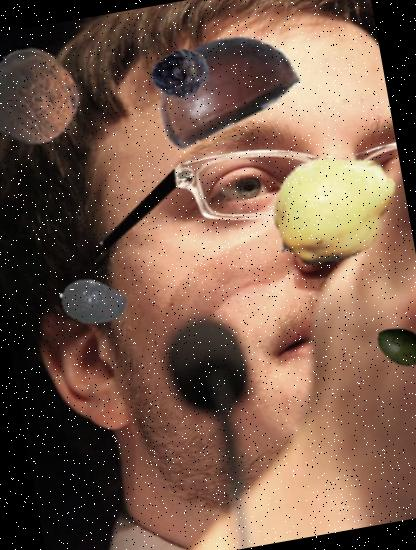Avocado: (53, 262, 134, 342), (371, 315, 416, 375)
Chestnut: (134, 0, 308, 170)
Dates: (148, 40, 215, 107)
Quince: (256, 131, 410, 285)
Walnut: (0, 40, 87, 154)
